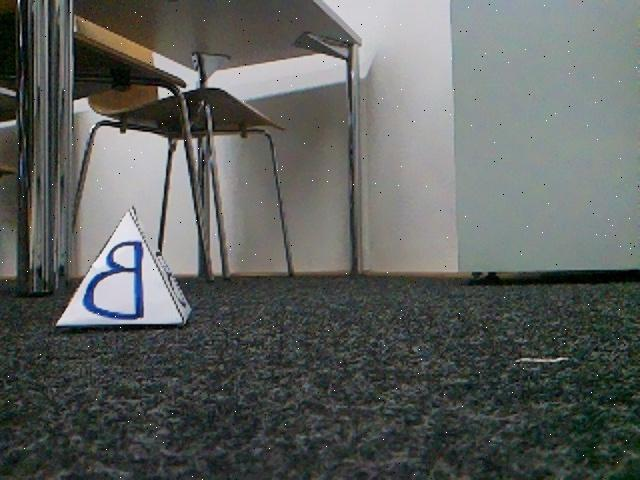B: (61, 211, 192, 328)
